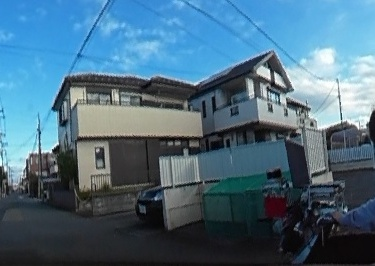person: (344, 102, 375, 266)
